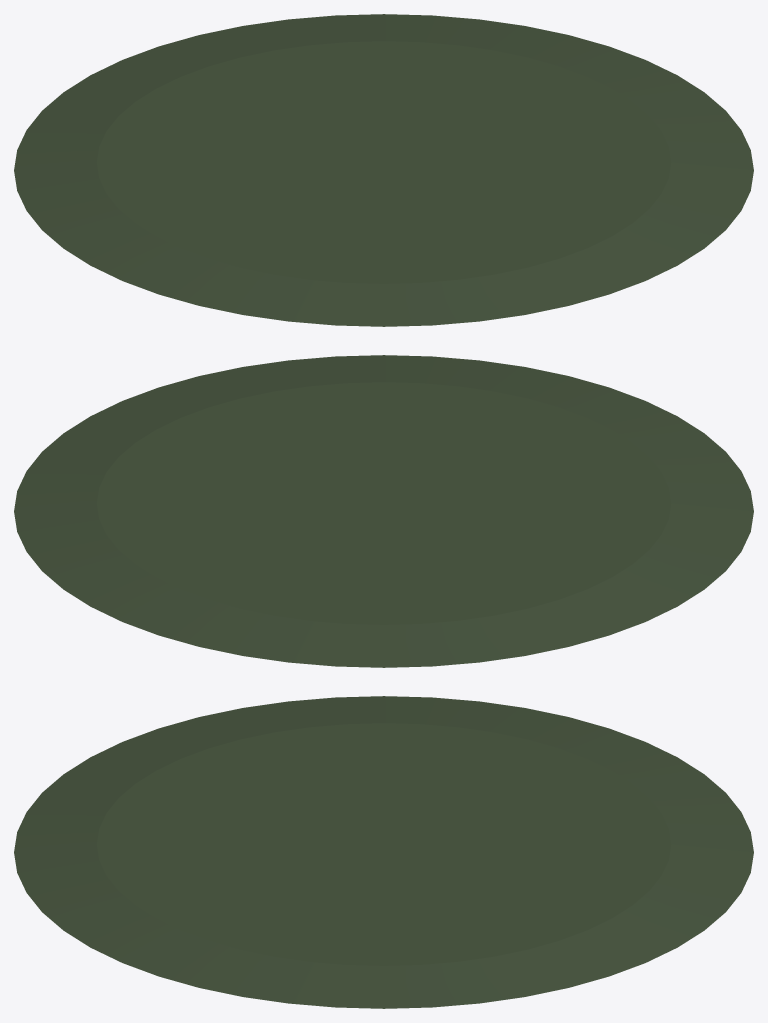
The model's file is island-shelf.glb.
3 renders of one model, top to bottom at view 1: azimuth 30°, elevation 25°; view 2: azimuth 150°, elevation 25°; view 3: azimuth 270°, elevation 25°, orthographic.
Visible parts, largest first — view 1: Island Shelf; view 2: Island Shelf; view 3: Island Shelf.
Part boxes in pixels (x1=…): Island Shelf: x1=14, y1=14, x2=753, y2=326; Island Shelf: x1=14, y1=355, x2=753, y2=667; Island Shelf: x1=14, y1=696, x2=753, y2=1008.
Size of the model in its own units: 304 by 3.6 by 304.
